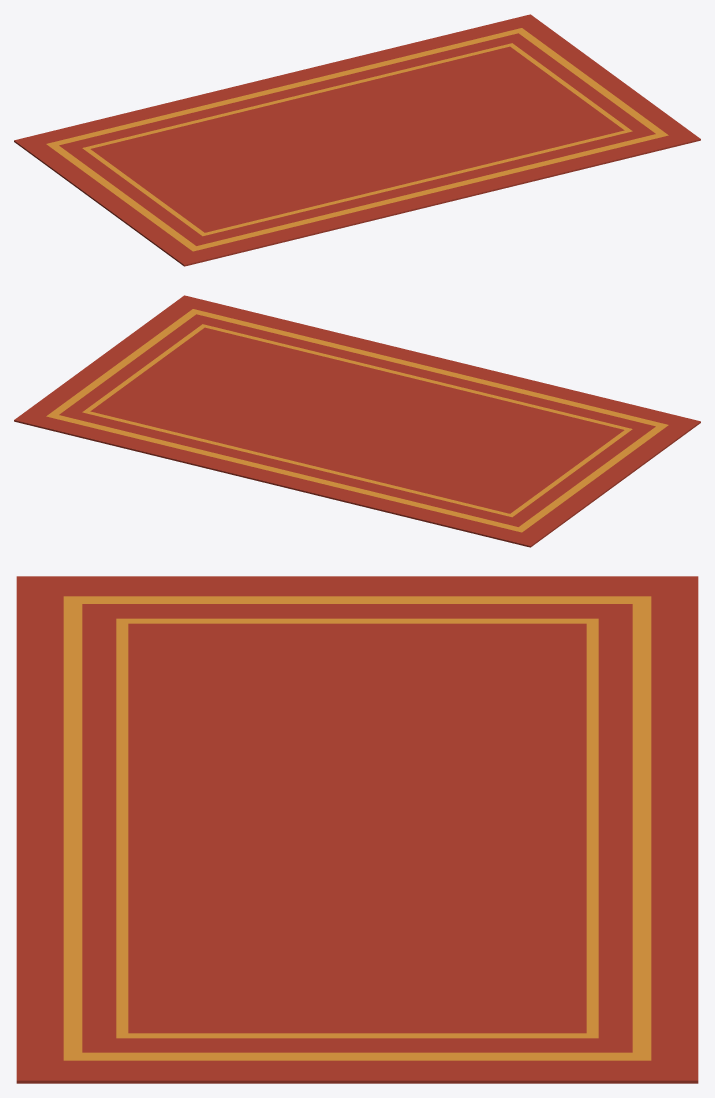
The model's file is Lodge_EntryRug.fbx.
The picture shows the model from 3 angles, top to bottom: view 1: azimuth 30°, elevation 25°; view 2: azimuth 150°, elevation 25°; view 3: azimuth 270°, elevation 25°; orthographic projection. The views are drawn at different scales.
Parts seen in each view (by area): view 1: RugField, RugBorder; view 2: RugField, RugBorder; view 3: RugField, RugBorder.
Part boxes in pixels (bbox=[...]): RugField: bbox=[14, 14, 700, 266]; RugBorder: bbox=[46, 28, 668, 251]; RugField: bbox=[14, 295, 700, 547]; RugBorder: bbox=[46, 309, 668, 532]; RugField: bbox=[16, 576, 698, 1083]; RugBorder: bbox=[63, 596, 651, 1060].
Size of the model in its own units: 14 by 0.04 by 8.
